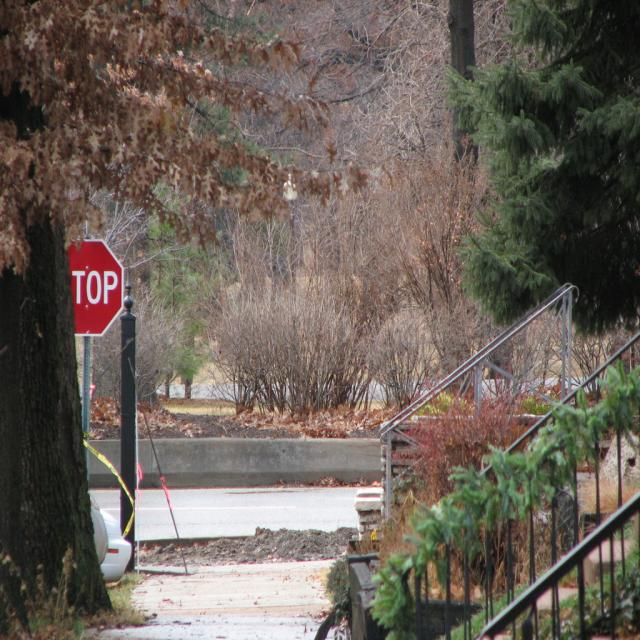Stop-sign: (67, 238, 124, 337)
